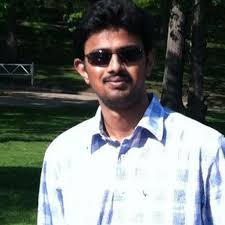Indian_Male: (80, 26, 148, 98)
